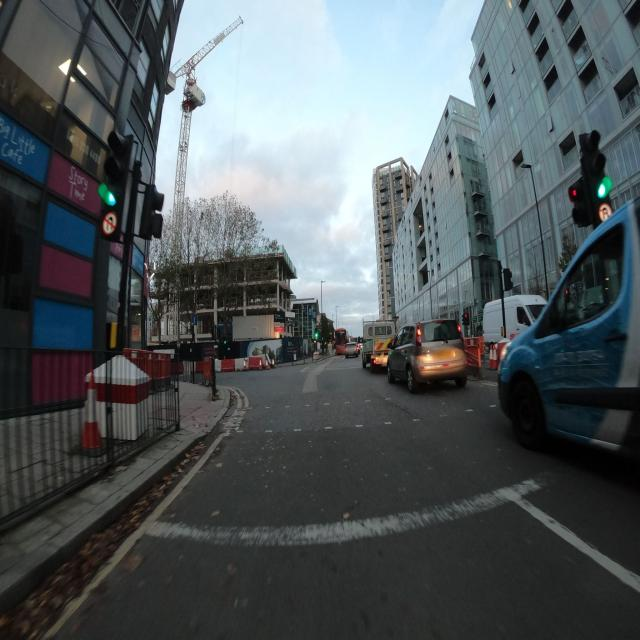car: (387, 318, 468, 392), (344, 342, 358, 358)
